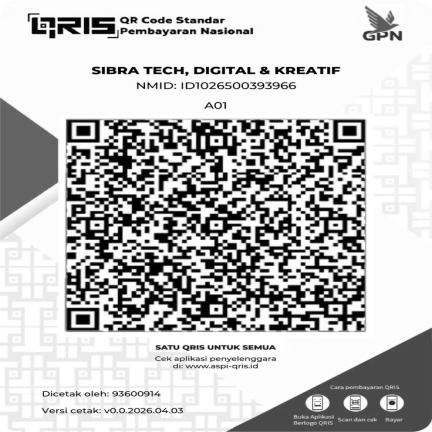Cara Pakai QRIS: (285, 383, 415, 428)
Cek Aplikasi Penyelenggara: (150, 353, 282, 372)
Dicetak Oleh: (35, 387, 173, 402)
Logo GPN: (351, 3, 411, 48)
Logo dan deskripsi QRIS: (18, 9, 259, 43)
Nama Merchant: (87, 63, 351, 77)
National Merchant ID: (132, 80, 302, 93)
QR Code: (59, 115, 372, 336)
Slogan: (150, 342, 282, 353)
Terminal ID: (200, 100, 232, 111)
Versi Cetak: (35, 405, 189, 418)
